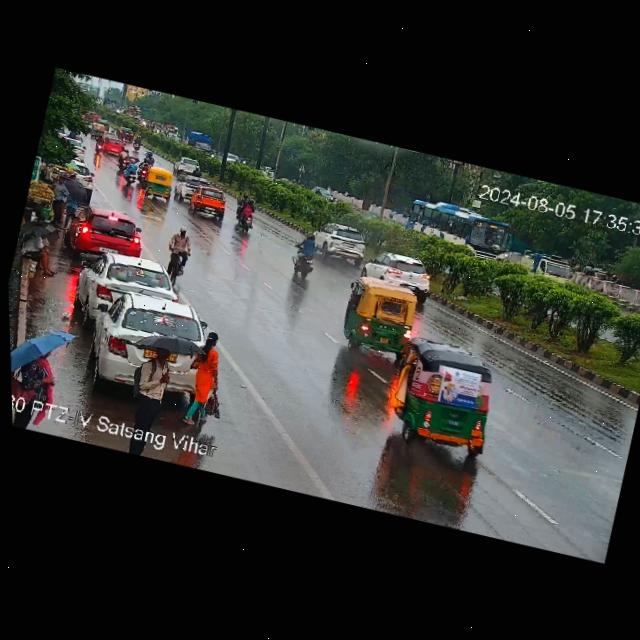bus: (404, 193, 520, 268)
car: (375, 331, 509, 462), (90, 286, 211, 376), (333, 269, 433, 370), (74, 244, 177, 325), (61, 205, 141, 269), (358, 246, 439, 297), (310, 219, 374, 268), (181, 181, 231, 224), (140, 165, 181, 206), (65, 158, 102, 198), (174, 170, 210, 204), (174, 154, 204, 175), (103, 136, 128, 160), (66, 136, 87, 160)
motorcycle: (161, 221, 200, 285), (280, 227, 325, 282), (236, 196, 257, 234), (122, 157, 139, 186), (91, 132, 106, 157), (116, 147, 129, 170), (137, 160, 149, 183), (236, 192, 249, 212), (143, 150, 154, 166), (636, 285, 640, 324), (132, 136, 142, 151), (192, 166, 201, 177)
person: (183, 331, 235, 427), (130, 339, 182, 429), (11, 218, 70, 282), (25, 341, 74, 405), (48, 175, 71, 220), (59, 189, 80, 232)
truck: (517, 244, 579, 284)
